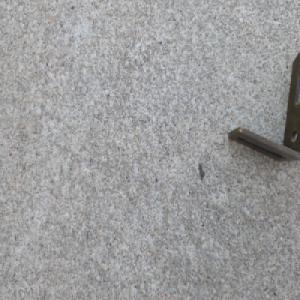MetalPart: (227, 47, 300, 165)
